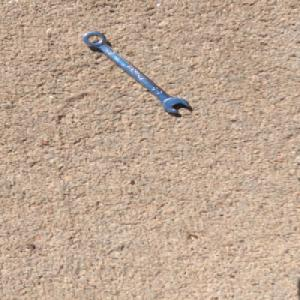Wrench: (81, 30, 192, 114)
